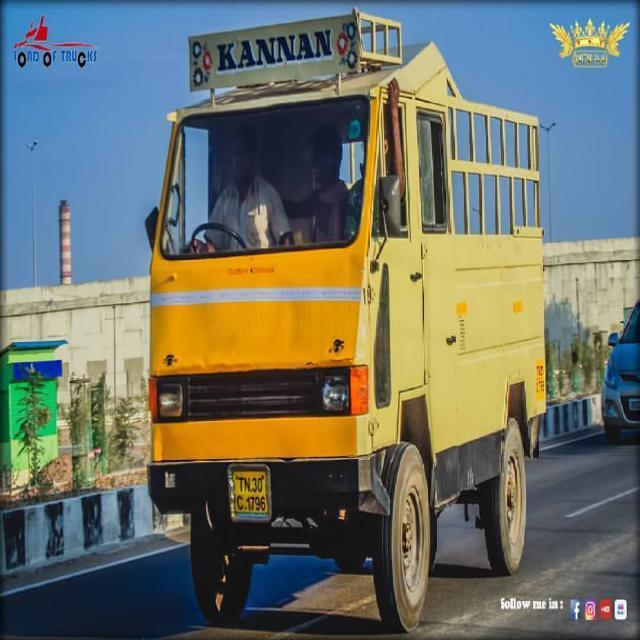Truck: (143, 8, 553, 635)
